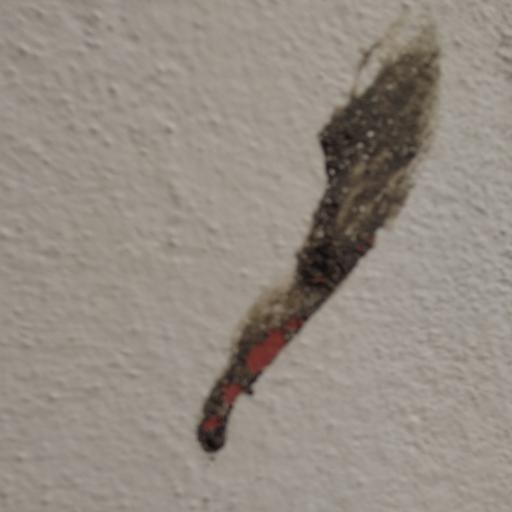stain: (194, 7, 456, 466)
